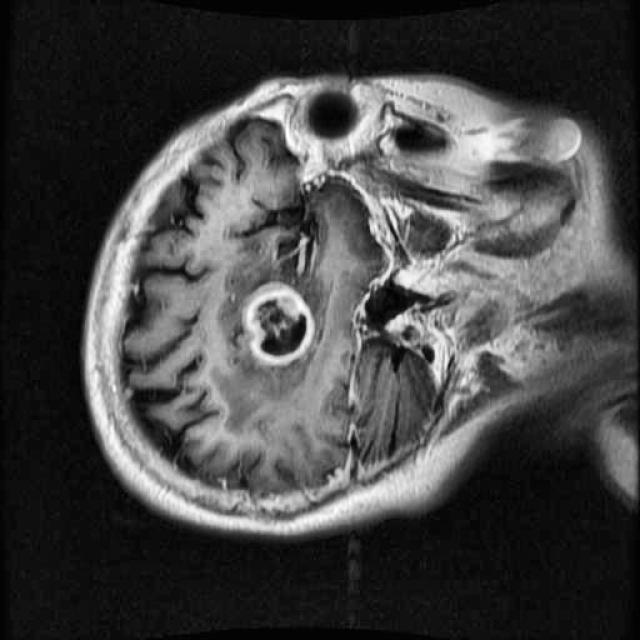Tumor: (234, 260, 330, 385)
